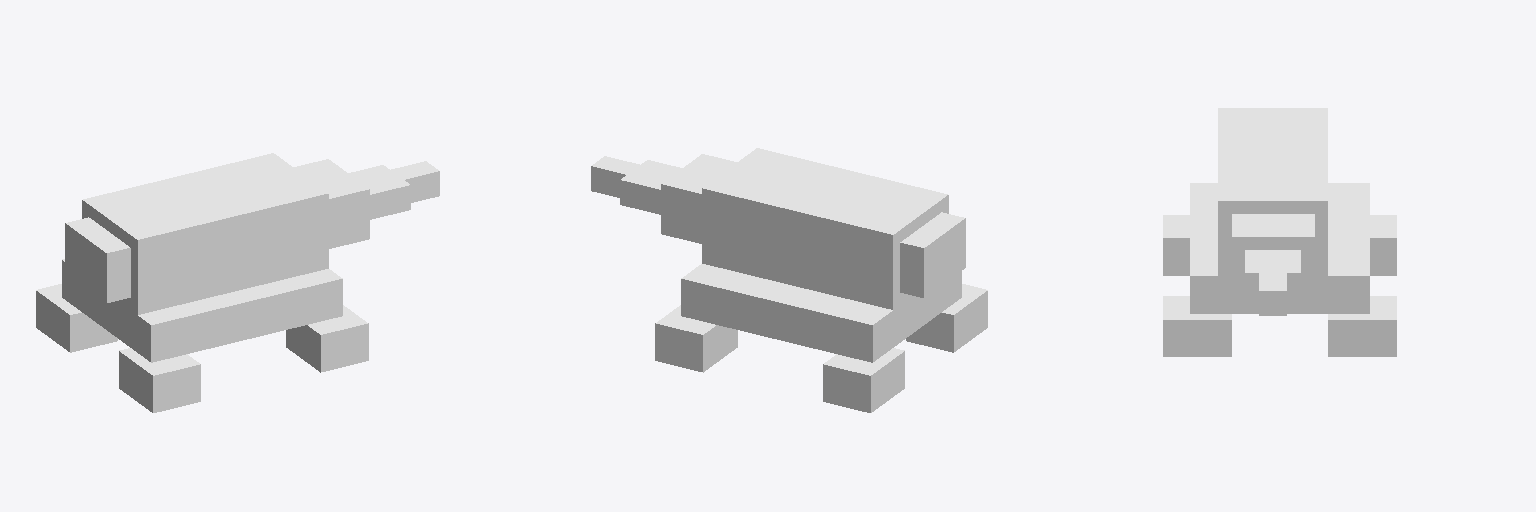
File: cannon.obj
3 views of the same model, side by side, from view 1: azimuth 30°, elevation 25°; view 2: azimuth 150°, elevation 25°; view 3: azimuth 270°, elevation 25° (orthographic).
Visible parts, largest first — view 1: cannon; view 2: cannon; view 3: cannon.
Boxes of the visible parts, <box> form: cannon: <box>36,153,439,412</box>; cannon: <box>591,148,987,412</box>; cannon: <box>1163,108,1396,356</box>.
Size of the model in its own units: 5.6 by 2.32 by 3.29.